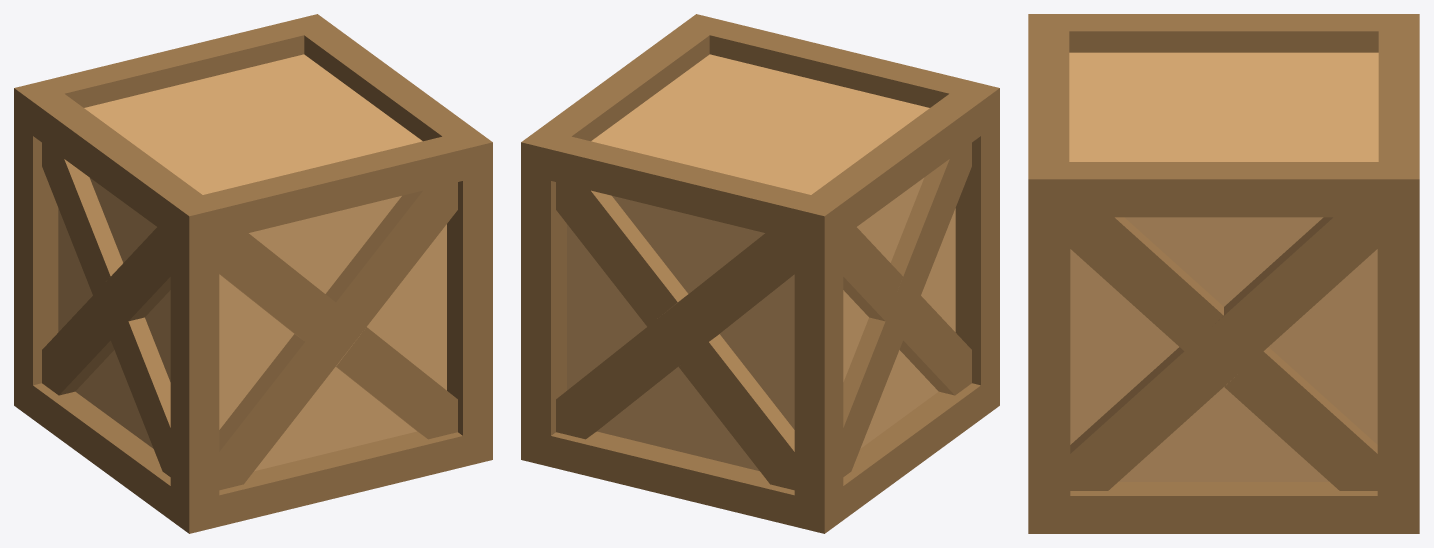
File: WoodenCrateV1.1.fbx
The picture shows the model from 3 angles, left to right: view 1: azimuth 30°, elevation 25°; view 2: azimuth 150°, elevation 25°; view 3: azimuth 270°, elevation 25°; orthographic projection. The views are drawn at different scales.
Visible parts, largest first — view 1: Crate1.1; view 2: Crate1.1; view 3: Crate1.1.
Part boxes in pixels (x1,y1,x2,y2): Crate1.1: (14,14,492,533); Crate1.1: (521,14,999,533); Crate1.1: (1028,14,1419,533).
Size of the model in its own units: 262 by 262 by 262.
